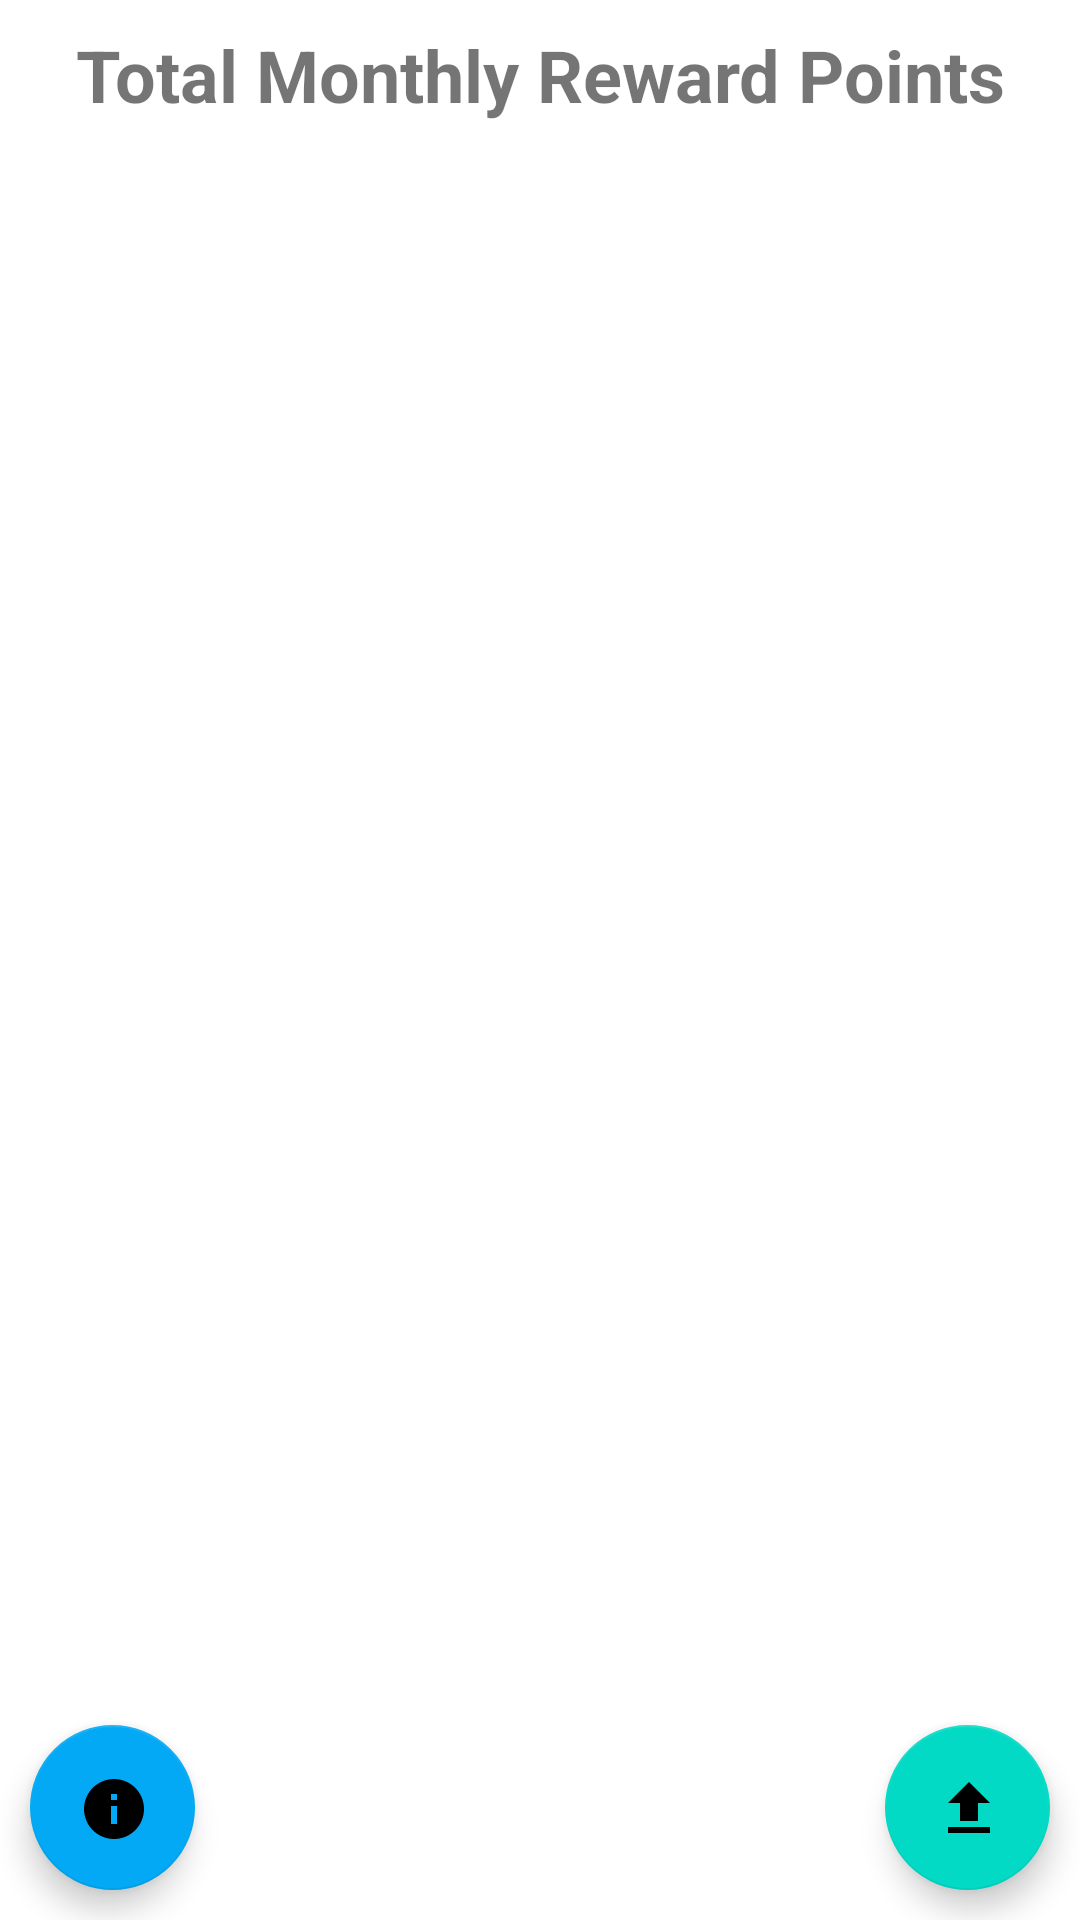

Icon click points for this 1080 × 1920 phone screenshot, format [x,y]:
file upload: [967,1807]
info: [112,1807]
